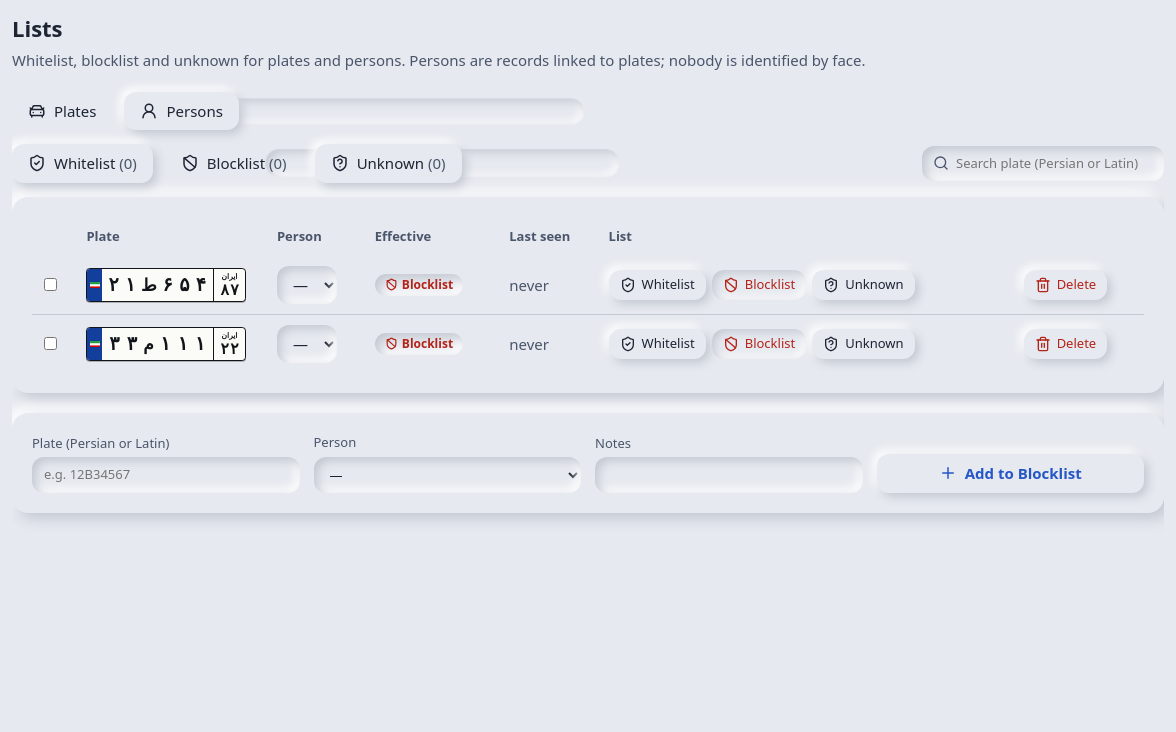
Test case: Lists › moves a plate to another list with one click
The image size is (1176, 732).
Click the 1st button "Whitelist".
click(657, 285)  # box [609,270,706,300]
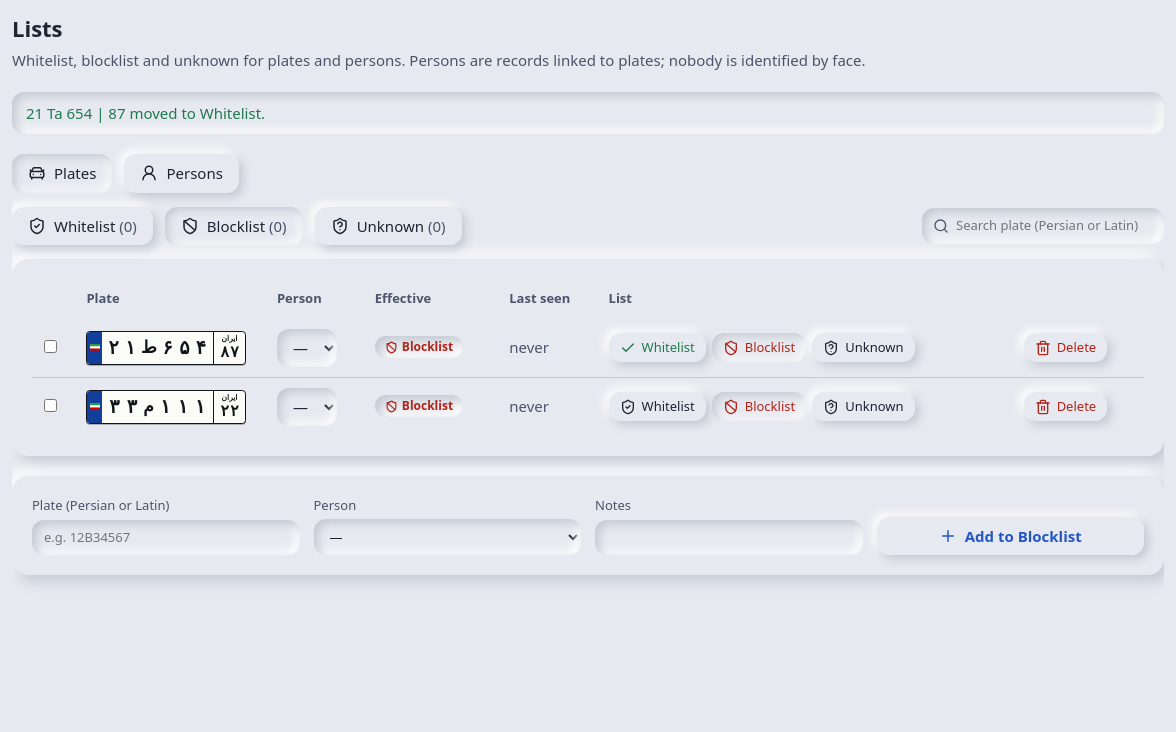
Now the text "21 Ta 654 | 87 moved to Whitelist." is shown, box [26,102,265,124]
